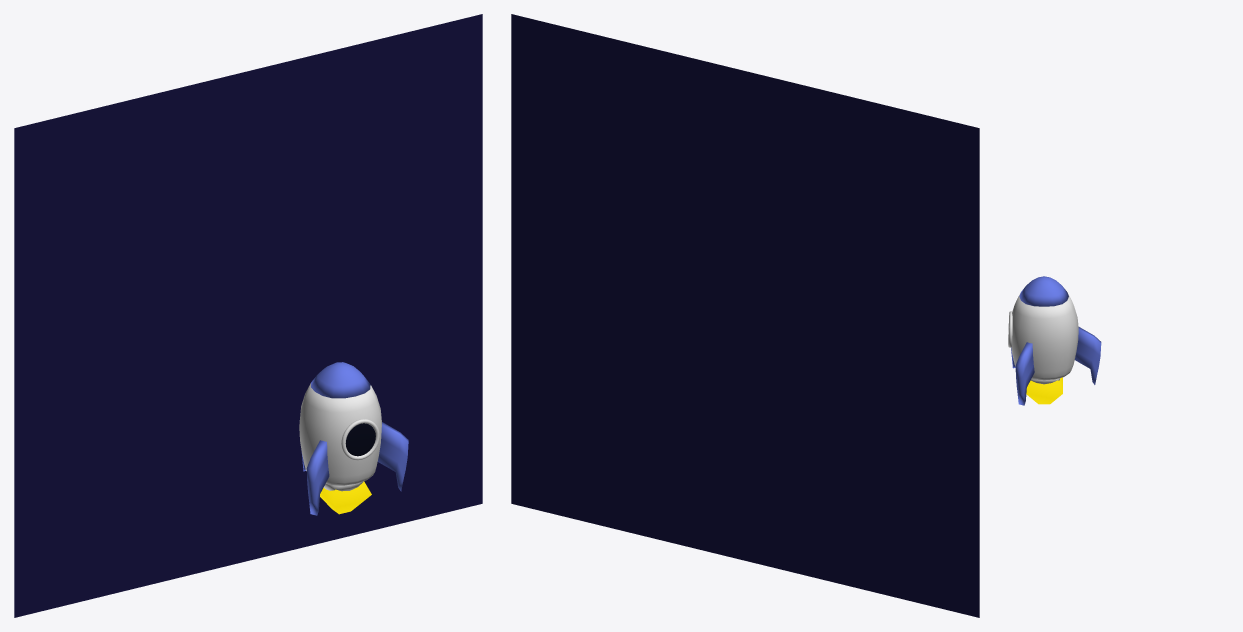
File: rocketv1.glb
3 renders of one model, left to right at view 1: azimuth 30°, elevation 25°; view 2: azimuth 150°, elevation 25°; view 3: azimuth 270°, elevation 25°, orthographic. The views are drawn at different scales.
Parts seen in each view (by area): view 1: Plane, Cube, Cube.001, Cube.002, Cube.004, Cube.006, Sphere; view 2: Plane; view 3: Cube, Cube.001, Cube.003, Cube.002, Cube.006.
Part boxes in pixels (x1=…): Plane: x1=14, y1=14, x2=482, y2=617; Cube: x1=299, y1=383, x2=381, y2=485; Cube.001: x1=311, y1=362, x2=370, y2=398; Cube.002: x1=377, y1=422, x2=408, y2=491; Cube.004: x1=306, y1=440, x2=329, y2=515; Cube.006: x1=320, y1=481, x2=371, y2=514; Sphere: x1=345, y1=423, x2=375, y2=456; Plane: x1=511, y1=14, x2=979, y2=617; Cube: x1=1011, y1=293, x2=1078, y2=380; Cube.001: x1=1019, y1=276, x2=1068, y2=306; Cube.003: x1=1075, y1=327, x2=1101, y2=384; Cube.002: x1=1015, y1=342, x2=1034, y2=405; Cube.006: x1=1026, y1=377, x2=1062, y2=404.
Size of the model in its own units: 14.81 by 14.81 by 7.18.
